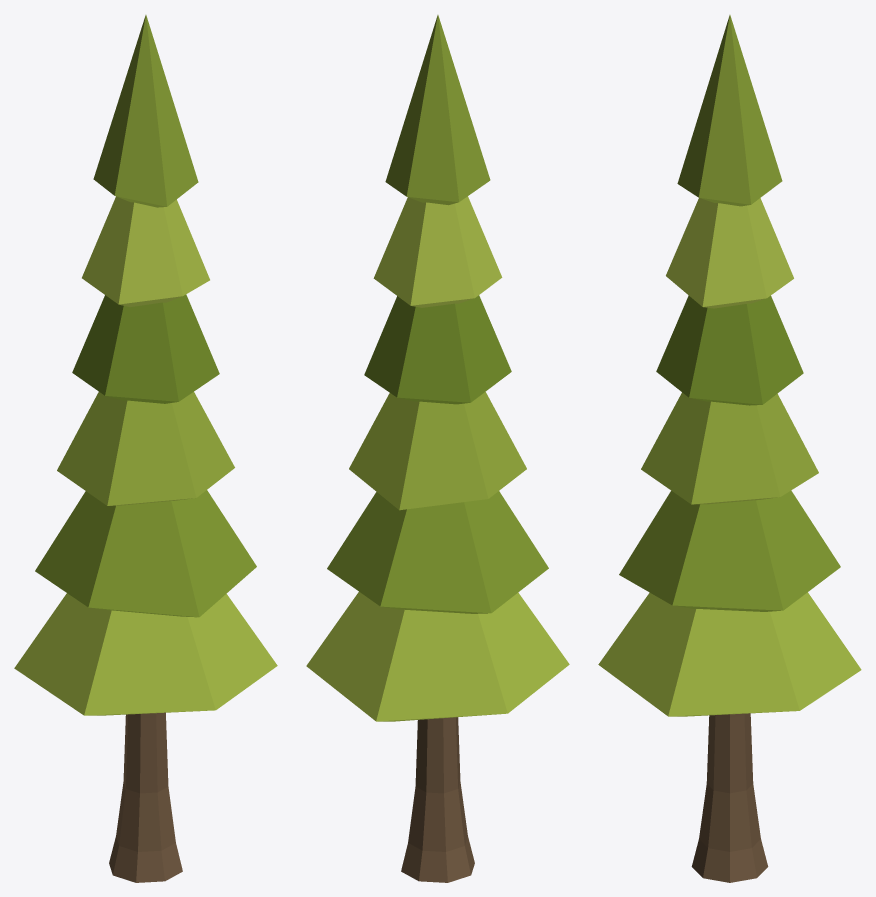
The model's file is NHP_Tree_LP_D1_9m_01.fbx.
The picture shows the model from 3 angles, left to right: view 1: azimuth 30°, elevation 25°; view 2: azimuth 150°, elevation 25°; view 3: azimuth 270°, elevation 25°; orthographic projection.
Visible parts, largest first — view 1: NHP_Tree_LP_D1_9m_01; view 2: NHP_Tree_LP_D1_9m_01; view 3: NHP_Tree_LP_D1_9m_01.
Part boxes in pixels (x1,y1,x2,y2): NHP_Tree_LP_D1_9m_01: (14,15,277,882); NHP_Tree_LP_D1_9m_01: (306,15,569,882); NHP_Tree_LP_D1_9m_01: (598,15,861,882).
Size of the model in its own units: 2.27 by 9.16 by 2.56.
